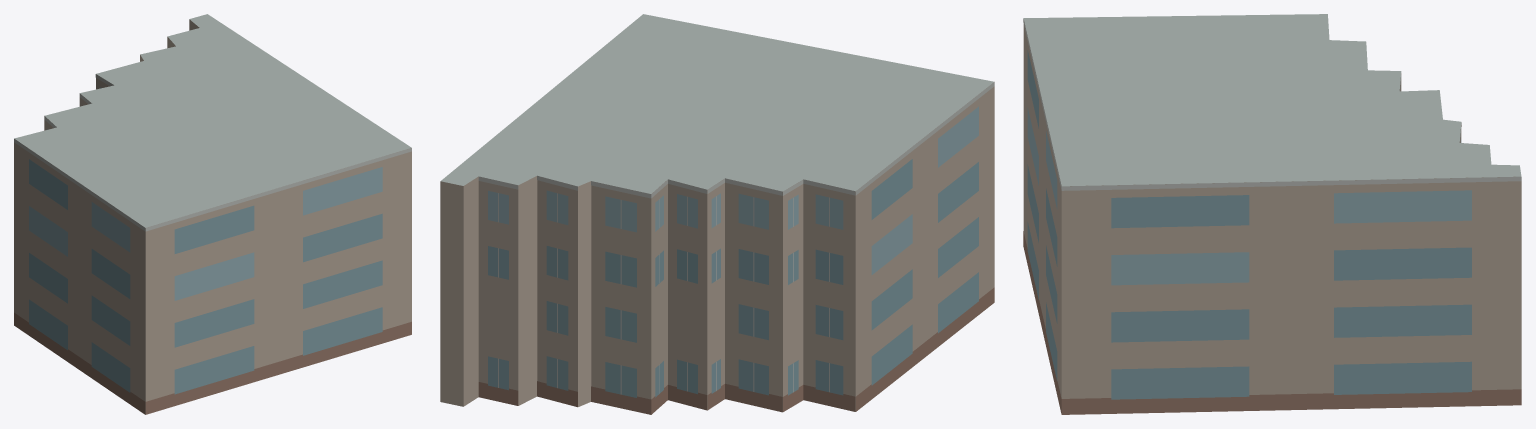
Rendered from survey-upis-32642792.glb.
3 renders of one model, left to right at view 1: azimuth 30°, elevation 25°; view 2: azimuth 150°, elevation 25°; view 3: azimuth 270°, elevation 25°, orthographic. The views are drawn at different scales.
Visible parts, largest first — view 1: survey-upis-32642792.tmp; view 2: survey-upis-32642792.tmp; view 3: survey-upis-32642792.tmp.
Part boxes in pixels (x1=…): survey-upis-32642792.tmp: x1=14, y1=14, x2=411, y2=414; survey-upis-32642792.tmp: x1=440, y1=14, x2=994, y2=414; survey-upis-32642792.tmp: x1=1023, y1=14, x2=1521, y2=414.
Size of the model in its own units: 19.73 by 12.2 by 24.09.
